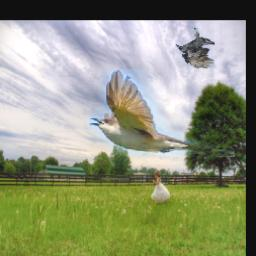Crow: (176, 24, 216, 69)
Cuckoo: (89, 70, 235, 158)
